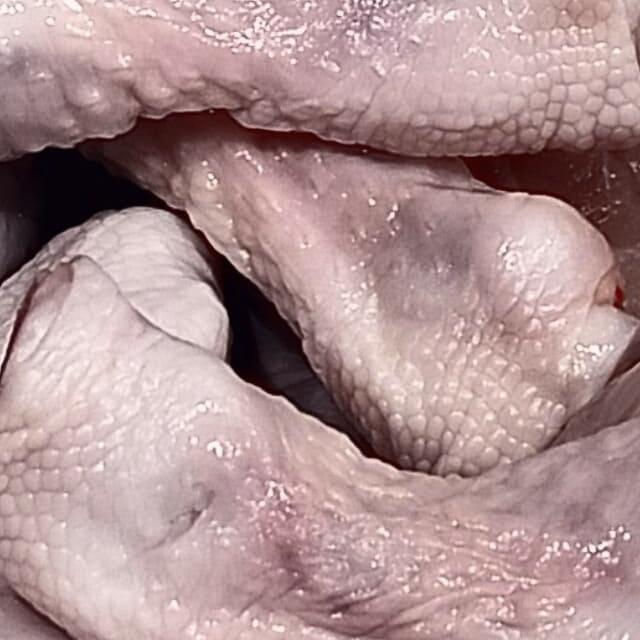chicken: (0, 103, 640, 640), (0, 0, 640, 188)
